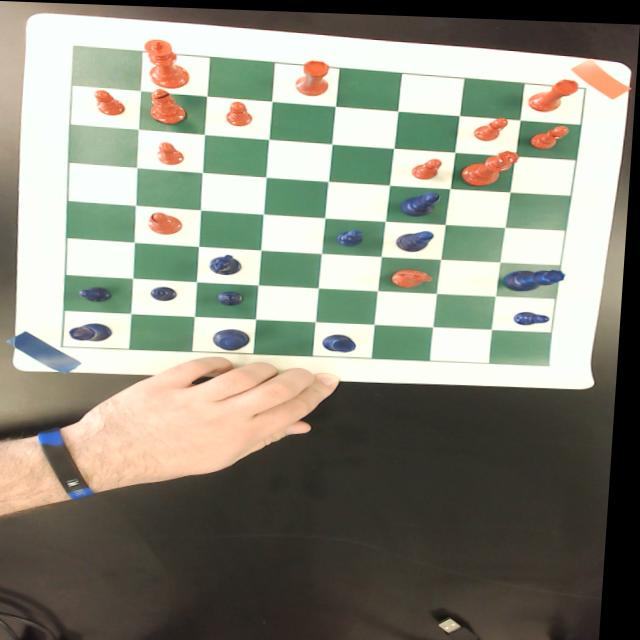B: (401, 187, 444, 213), (398, 226, 439, 248)
K: (216, 325, 256, 348)
N: (211, 251, 246, 273)
P: (516, 306, 556, 321), (82, 284, 117, 301), (339, 225, 368, 244), (219, 287, 249, 304), (154, 283, 182, 299)
Q: (506, 263, 570, 287)
R: (74, 321, 118, 340), (326, 330, 363, 349)
b: (144, 86, 190, 123), (150, 209, 187, 232)
cb: (66, 44, 587, 361)
k: (142, 37, 194, 86)
n: (394, 264, 437, 285)
p: (530, 119, 572, 145), (474, 112, 511, 137), (94, 88, 129, 114), (226, 98, 256, 124), (158, 139, 189, 164), (413, 153, 446, 176)
q: (463, 144, 523, 183)
r: (527, 73, 582, 109), (294, 56, 336, 94)
